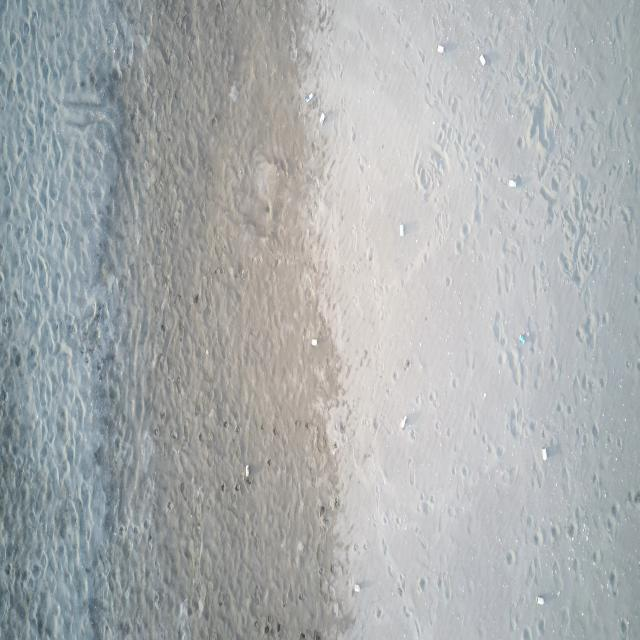Garbage: (303, 91, 313, 101), (517, 333, 526, 344), (540, 447, 547, 460), (400, 415, 407, 428), (479, 54, 486, 65), (399, 223, 404, 236), (507, 179, 515, 187), (536, 595, 543, 604), (319, 111, 324, 123), (352, 584, 359, 592), (436, 44, 443, 52), (311, 337, 316, 346), (244, 464, 247, 477)
